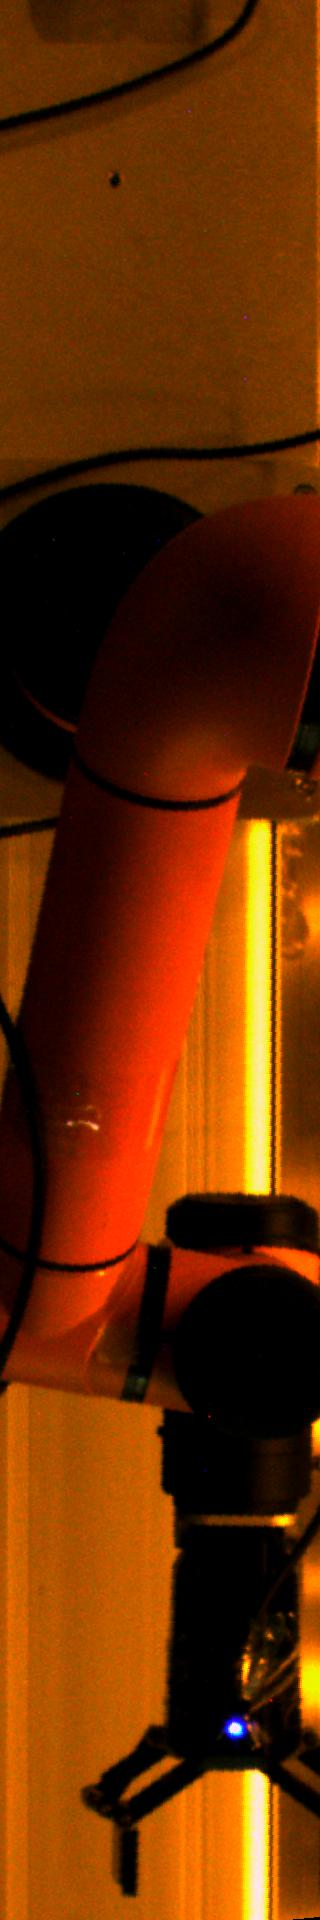keyPoint_1: (219, 1711, 250, 1741)
keyPoint_2: (99, 167, 129, 196)
